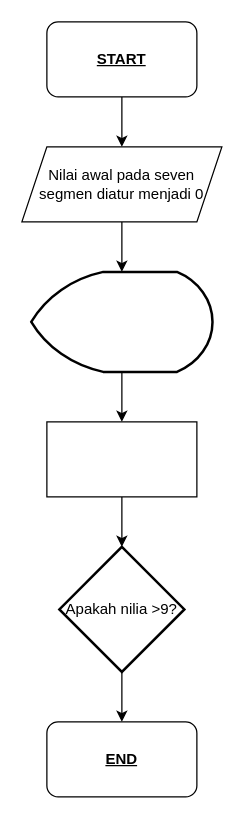
Image size: 244x819. Some labels were removed from this diagram. The shapes that lost their labels are listed below. From the top down, each one's centre as x and y in pixels, then its label:
point 121,321: Angka pada seven segment ditampilkan sesuai dengan nilai yang ada
point 121,459: Nilai pada seven segment ditambah 1
